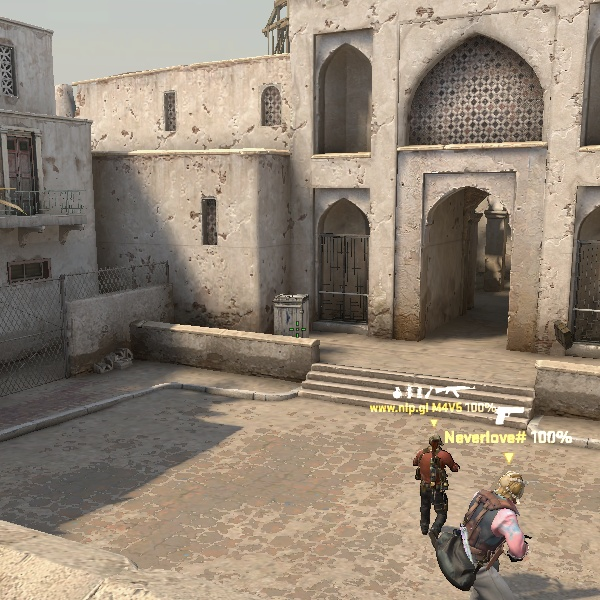t_body: (445, 470, 534, 585), (406, 434, 463, 540)
t_head: (498, 471, 526, 505), (428, 433, 444, 451)
